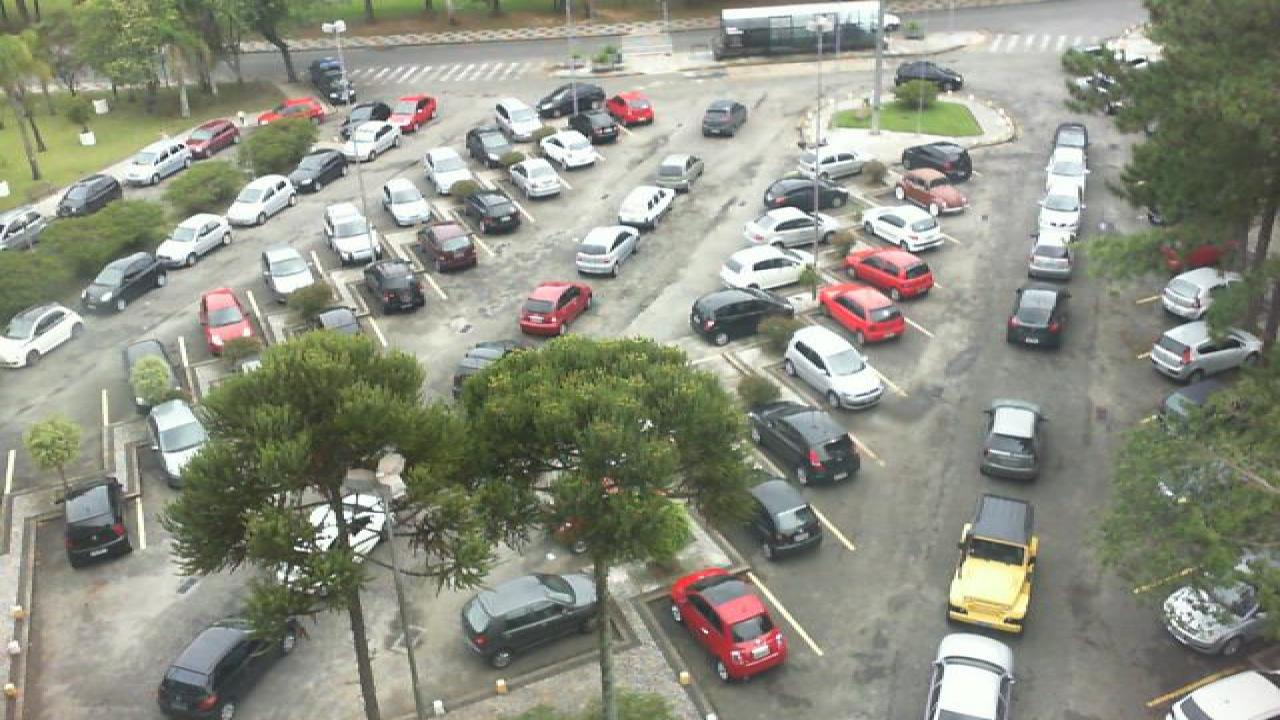Car: (456, 570, 602, 668), (670, 566, 788, 682), (946, 492, 1042, 634), (156, 622, 270, 720), (748, 399, 862, 485), (782, 325, 888, 410), (920, 631, 1020, 720), (1164, 581, 1264, 657), (60, 476, 134, 568), (1150, 320, 1262, 380), (742, 480, 824, 560), (146, 400, 214, 490), (1164, 668, 1280, 720), (980, 398, 1050, 482), (692, 287, 792, 344), (812, 285, 908, 344), (0, 304, 84, 368), (844, 246, 938, 300), (80, 252, 162, 312), (716, 245, 814, 294), (1158, 265, 1238, 323), (738, 204, 832, 253), (1004, 282, 1070, 348), (154, 214, 232, 268), (518, 280, 592, 336), (864, 204, 948, 253), (226, 173, 298, 227), (200, 287, 256, 355), (116, 140, 200, 184), (614, 182, 682, 234), (574, 225, 642, 277), (258, 248, 318, 306), (362, 260, 424, 314), (50, 174, 126, 218), (898, 140, 974, 184), (452, 342, 516, 394), (764, 175, 846, 215), (900, 169, 970, 215), (418, 219, 478, 271), (326, 202, 380, 258), (1040, 155, 1090, 214), (286, 150, 348, 196), (176, 118, 242, 161), (1026, 229, 1078, 282), (460, 191, 520, 235), (536, 81, 606, 118), (538, 129, 598, 171), (342, 119, 400, 162), (510, 155, 566, 198), (382, 178, 432, 226), (308, 56, 356, 105), (796, 149, 868, 181), (426, 148, 476, 194), (464, 126, 516, 170), (492, 99, 546, 141), (1036, 197, 1086, 242), (892, 61, 966, 91), (650, 154, 704, 192), (256, 97, 330, 124), (0, 210, 48, 251), (386, 94, 440, 130), (316, 305, 364, 344), (604, 92, 656, 128), (572, 109, 622, 146), (1050, 122, 1090, 168), (702, 100, 748, 137)
